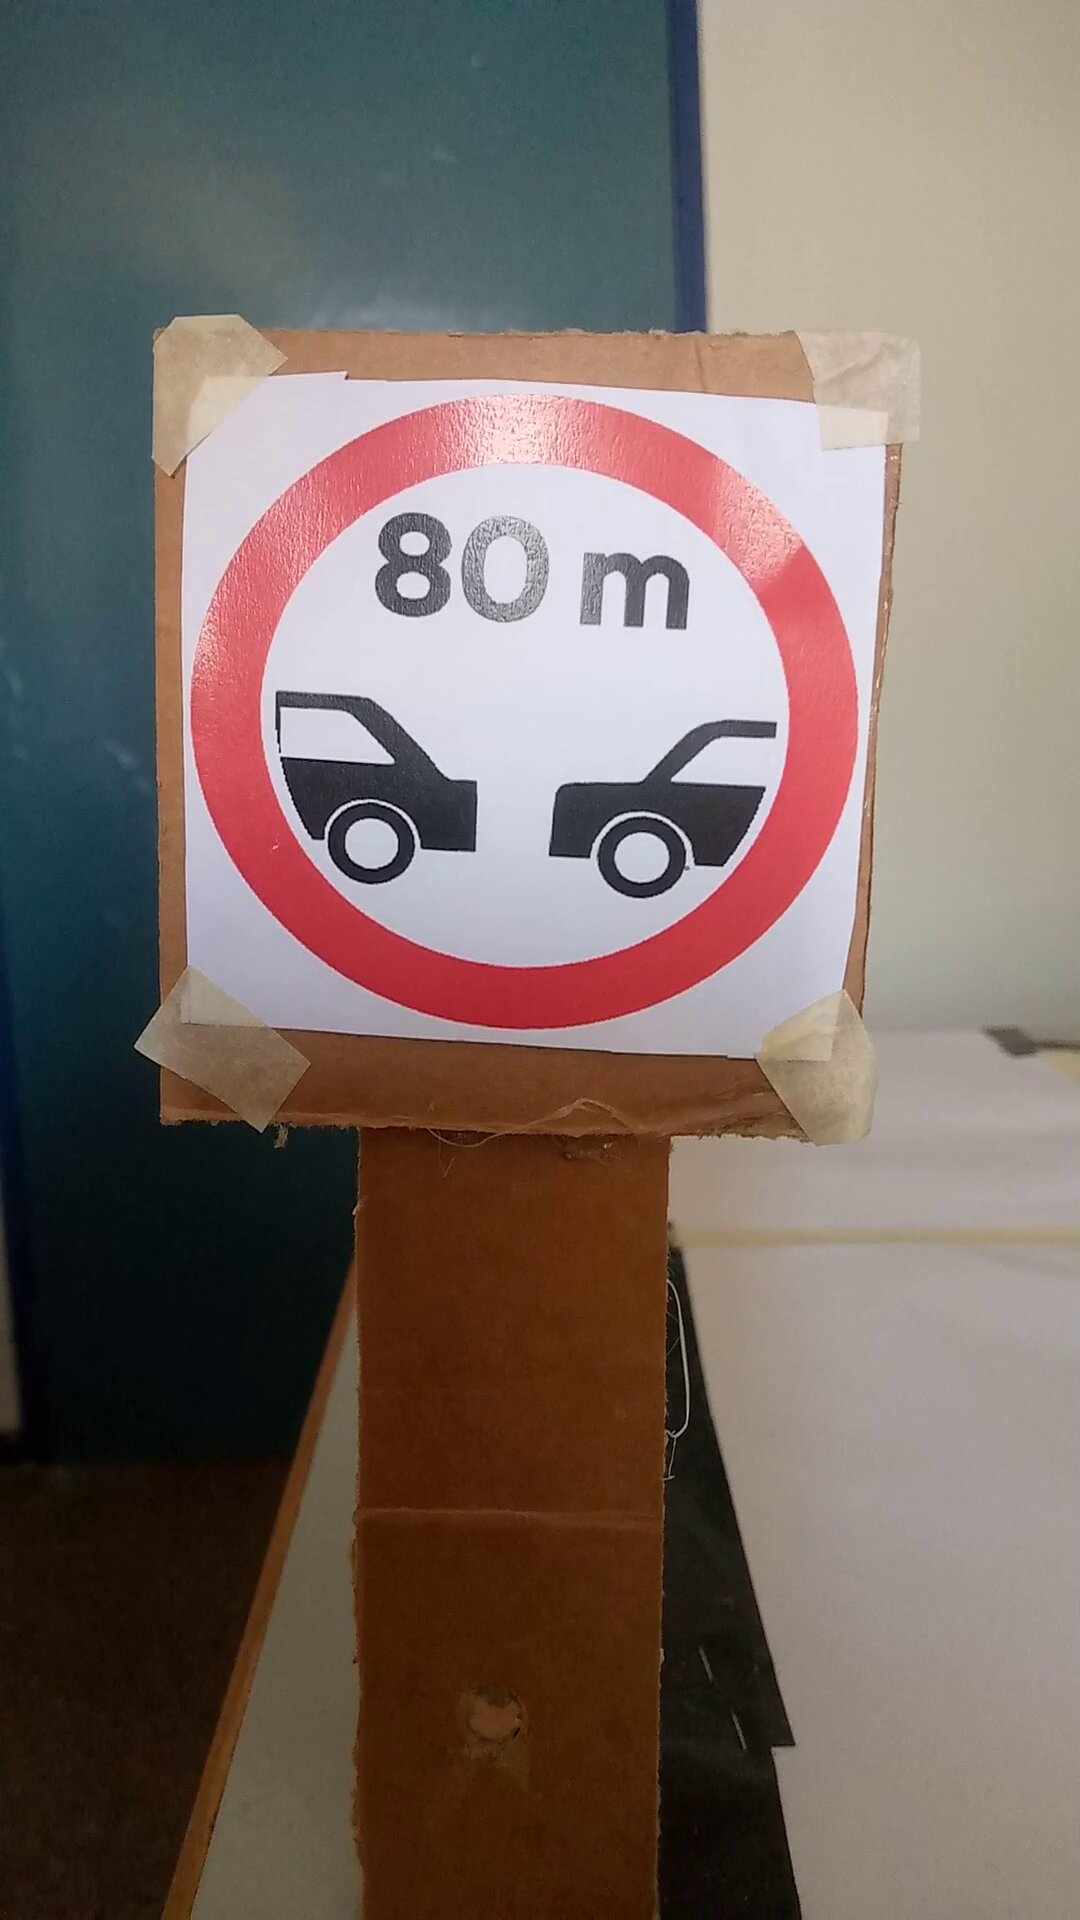panel001: (156, 328, 895, 1137)
